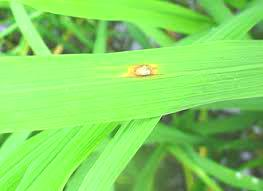1 RiceBlast: (124, 53, 165, 81)
